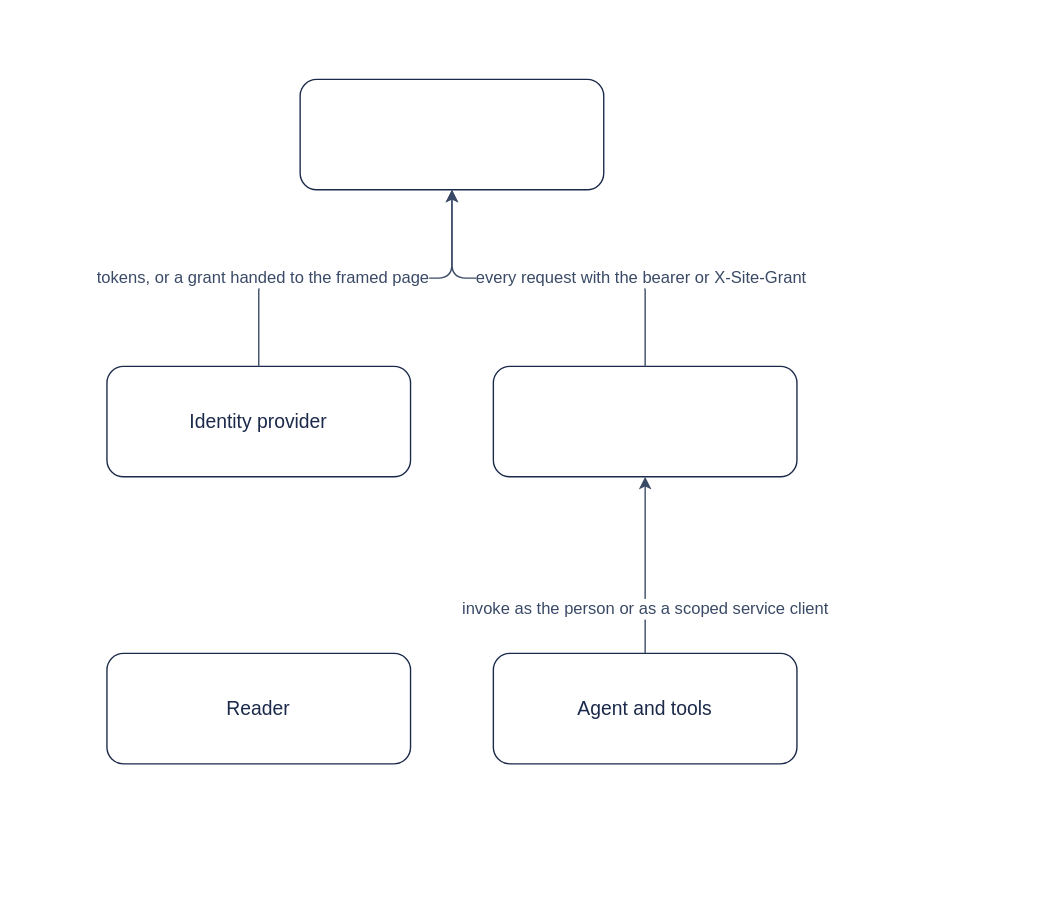
Some shapes in this 1041 by 897 pixel diagram are drawn without their labels. Here are the shapes that lost their labels. From the top down, the centre of each, then its label:
the point at 451,134: Chat page
the point at 644,421: Chat API
